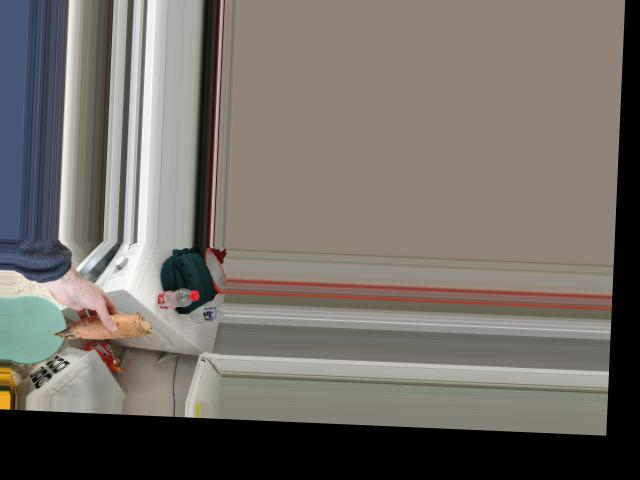sweet_potato: (60, 308, 156, 338)
